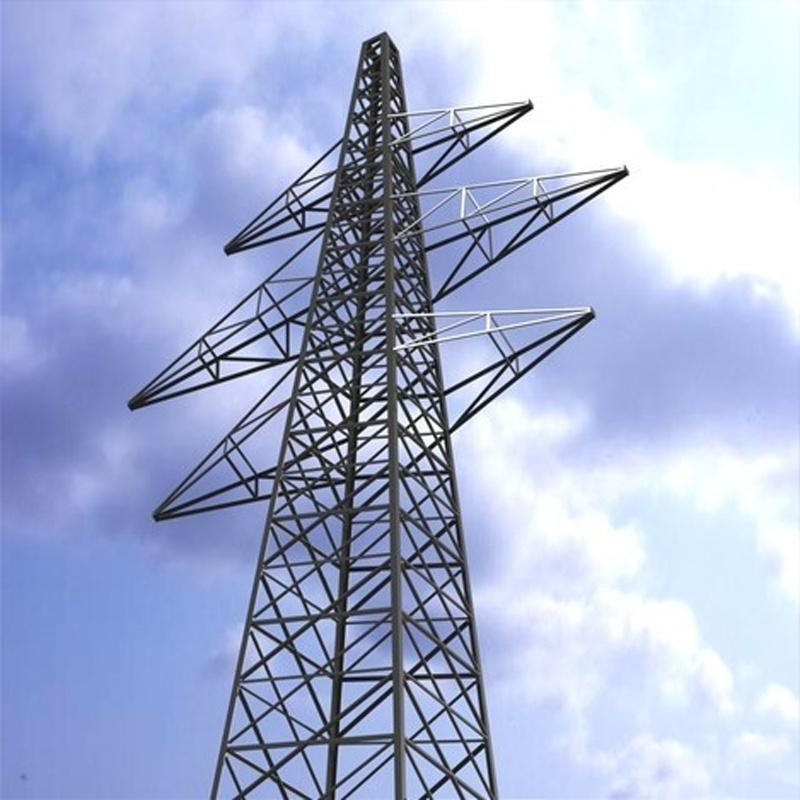power_tower: (186, 24, 592, 792)
